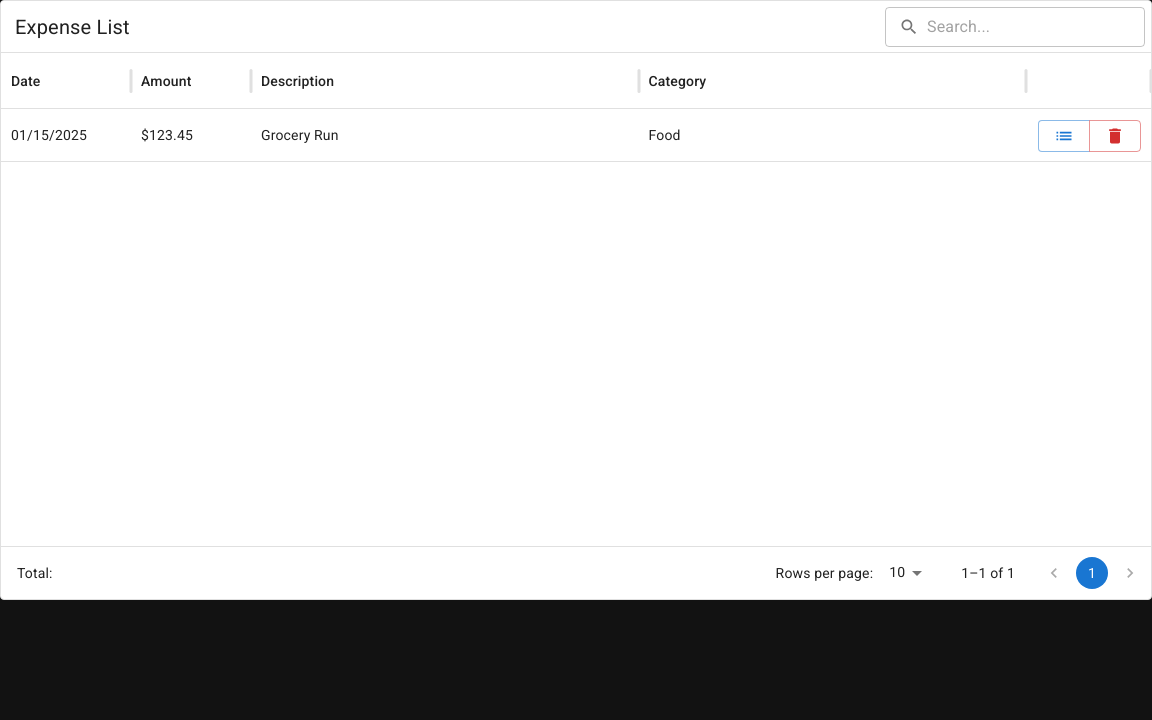
ExpenseList › Detail dialog › Closes the dialog when the X icon button is clicked
expect the text "Grocery Run" is shown: met, box left=261, top=127, right=339, bottom=143
Click the button named "expense detail". click: (1064,136)
box: left=1038, top=120, right=1090, bottom=152
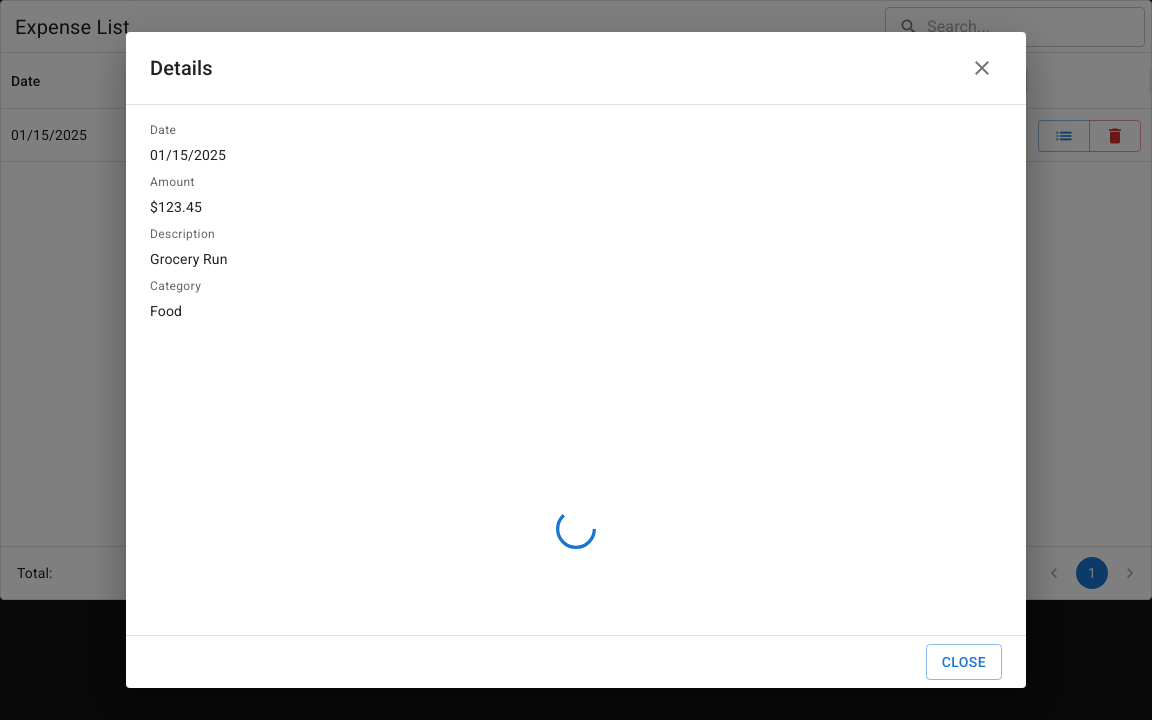
expect the dialog is shown: met
Click the button named "close". click: (982,68)
box: left=962, top=48, right=1002, bottom=88
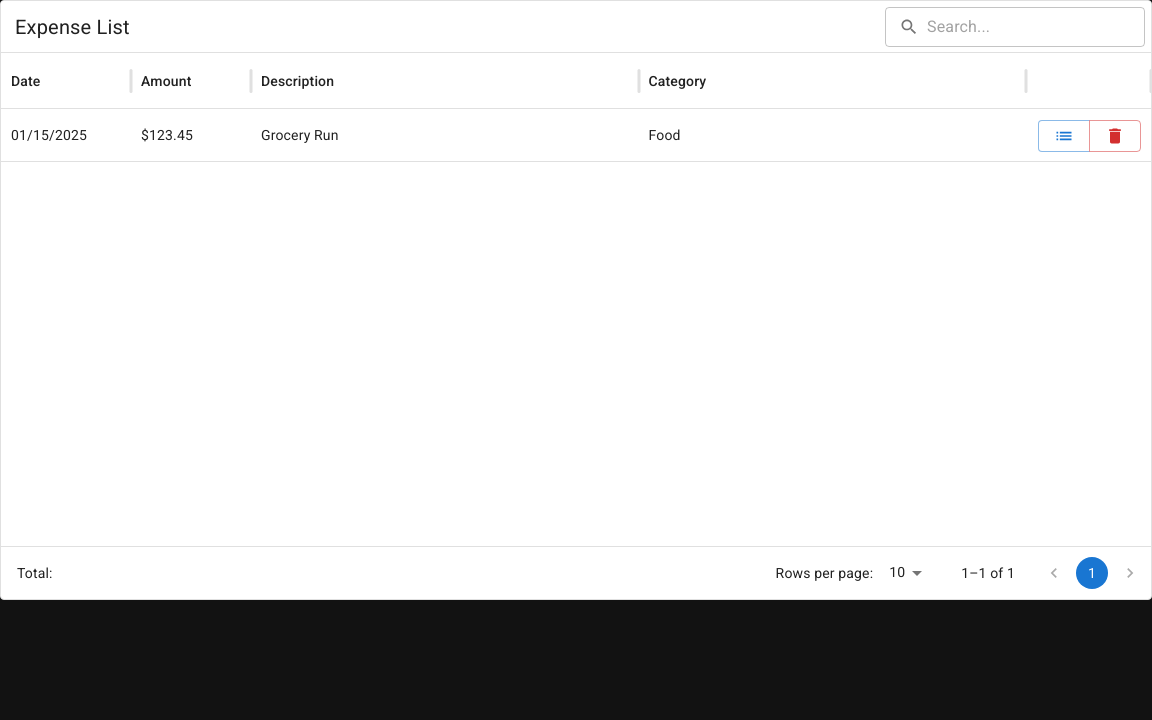
expect the dialog is gone: met
